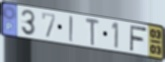1: (111, 22, 119, 51)
3: (20, 10, 37, 37)
7: (40, 11, 57, 40)
F: (129, 24, 148, 53)
I: (68, 15, 75, 44)
T: (85, 17, 101, 48)
